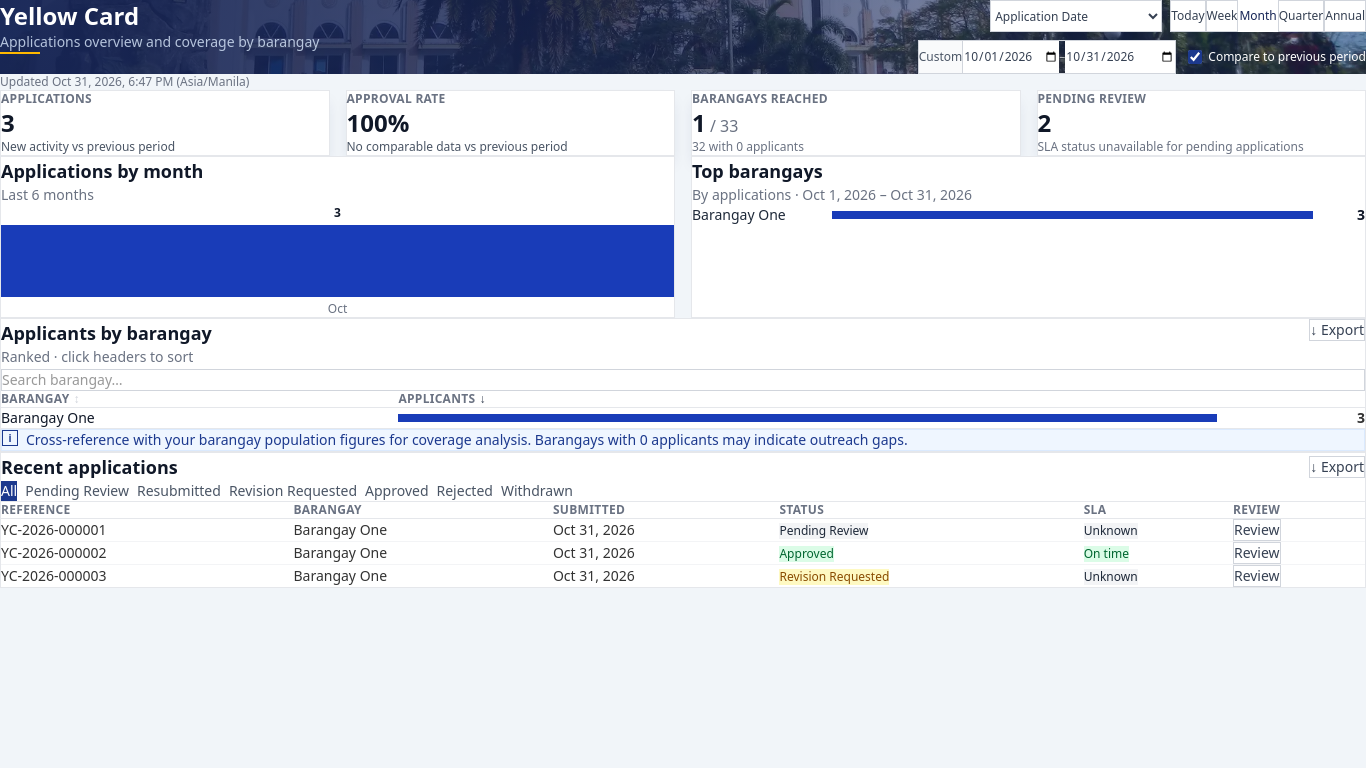
YellowCardPage › status tabs filter on the real yellow_card_application_status enum values
Expected: the text "YC-2026-000001" is shown, x1=1 y1=518 x2=293 y2=542
Click the tab "Approved" at (397,491), box x1=365 y1=481 x2=428 y2=501
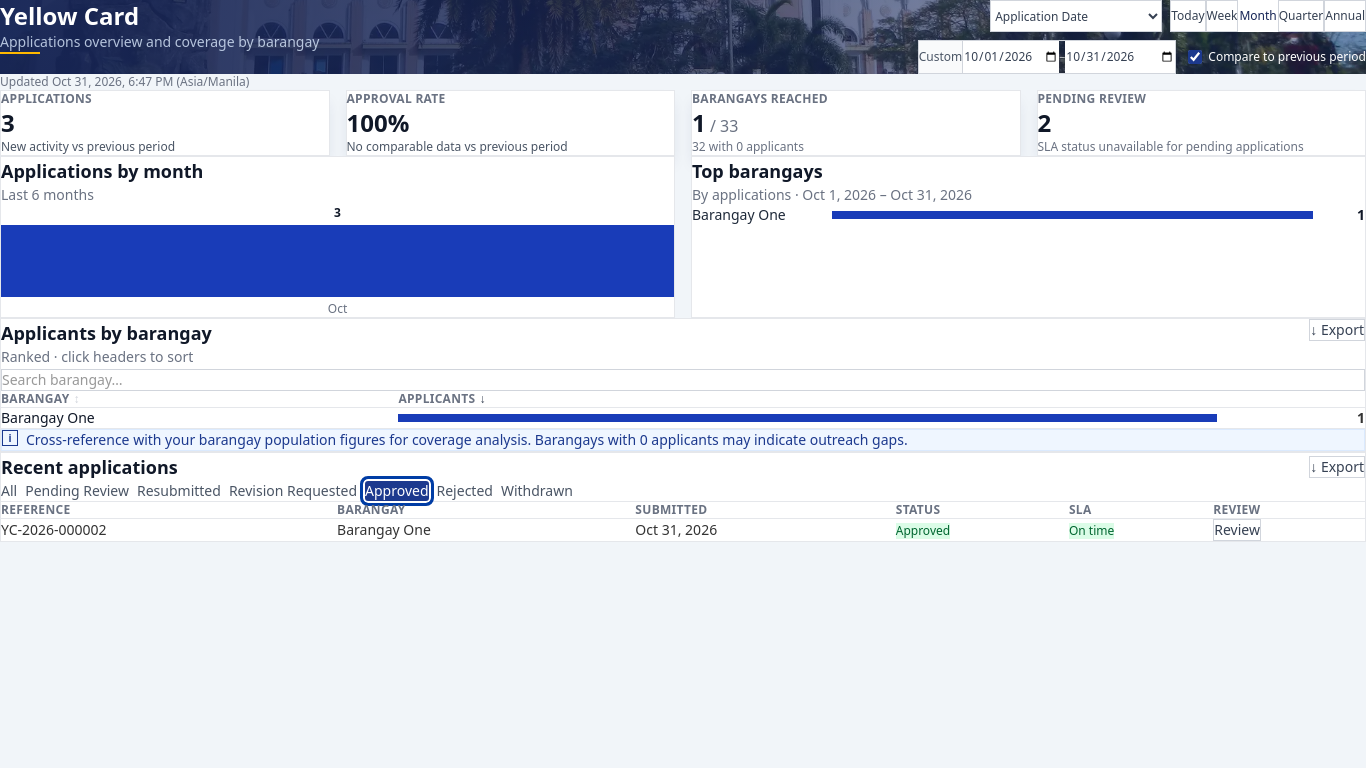
Expected: the text "YC-2026-000002" is shown, x1=1 y1=518 x2=337 y2=541
Now the text "YC-2026-000001" is gone
Now the text "YC-2026-000003" is gone
Click the tab "Revision Requested" at (293,491), box x1=229 y1=481 x2=357 y2=501
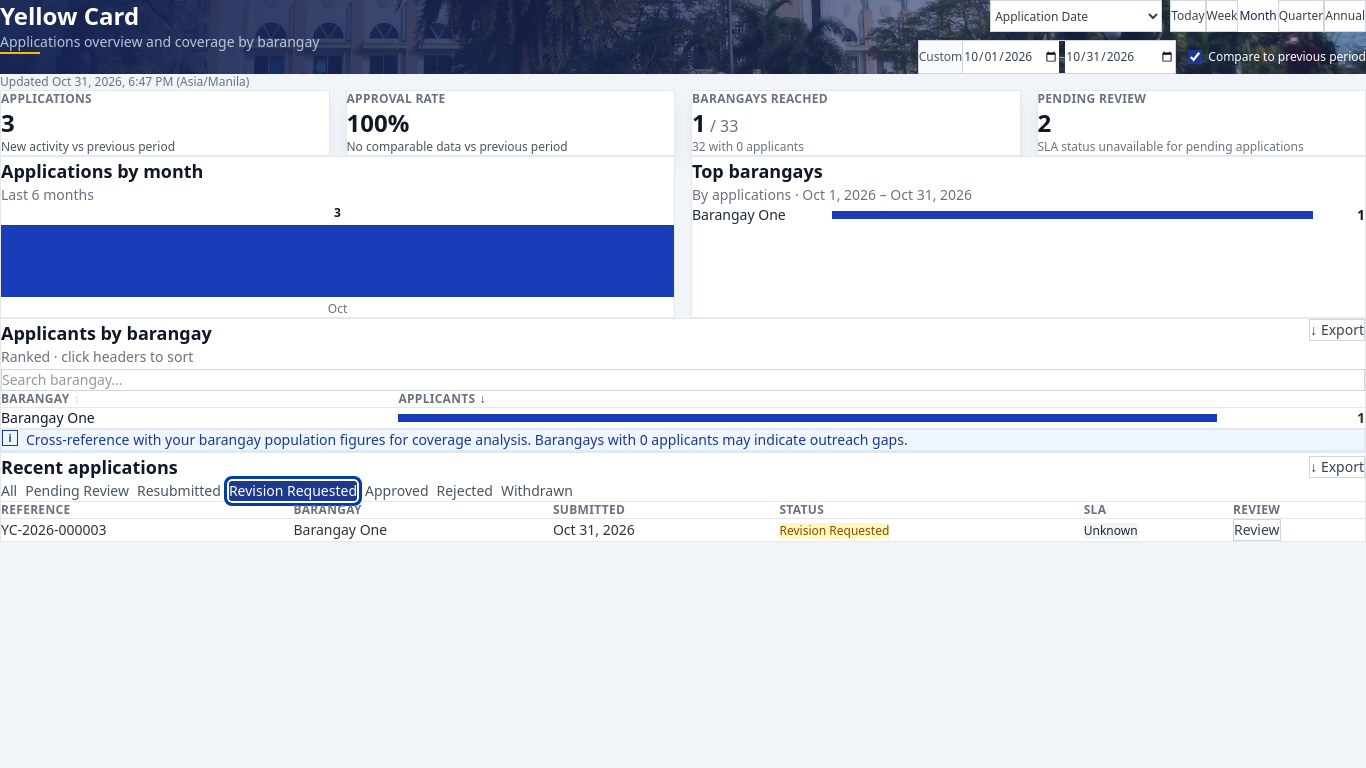
Now the text "YC-2026-000003" is shown, box x1=1 y1=518 x2=293 y2=541
Now the text "YC-2026-000002" is gone
Click the tab "All" at (9,491), box x1=1 y1=481 x2=17 y2=501
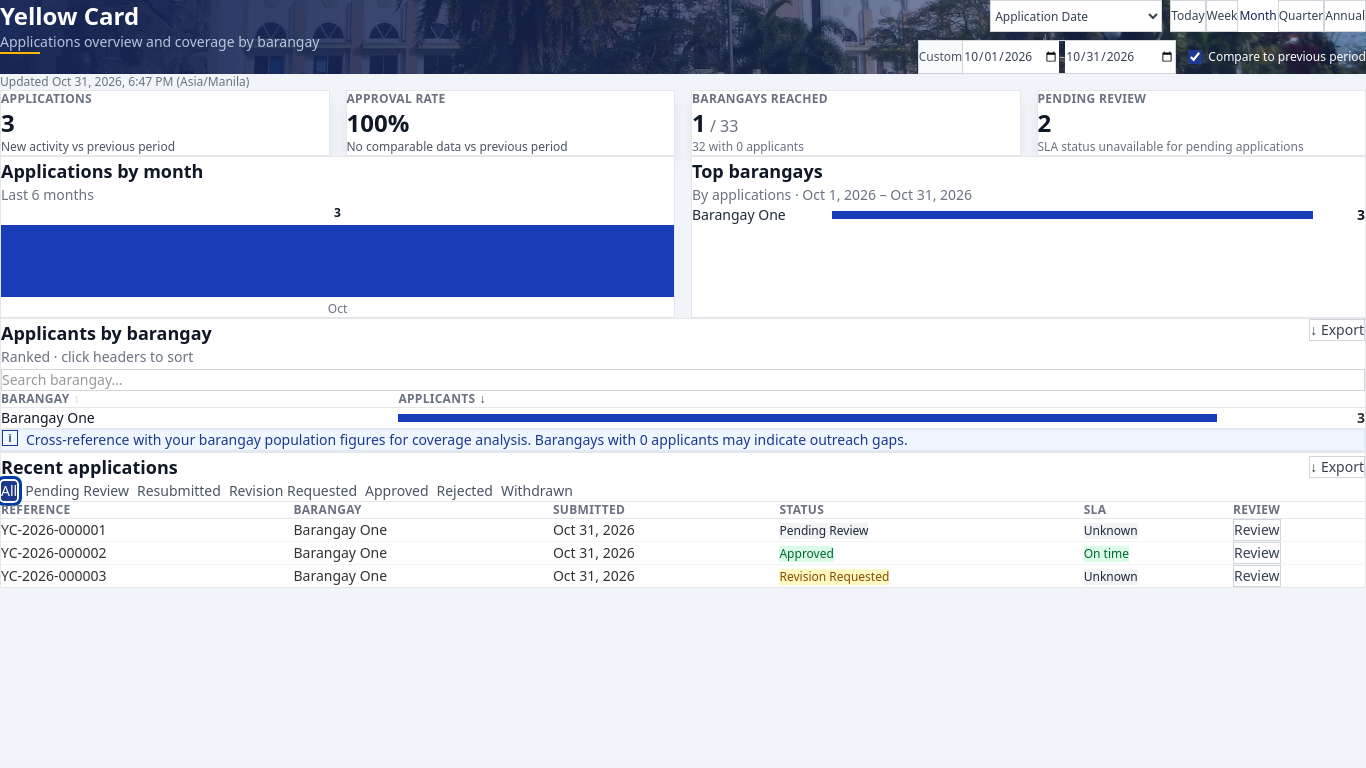
Now the text "YC-2026-000003" is shown, box x1=1 y1=564 x2=293 y2=587
Now the text "YC-2026-000001" is shown, box x1=1 y1=518 x2=293 y2=542
Now the text "YC-2026-000002" is shown, box x1=1 y1=542 x2=293 y2=564
